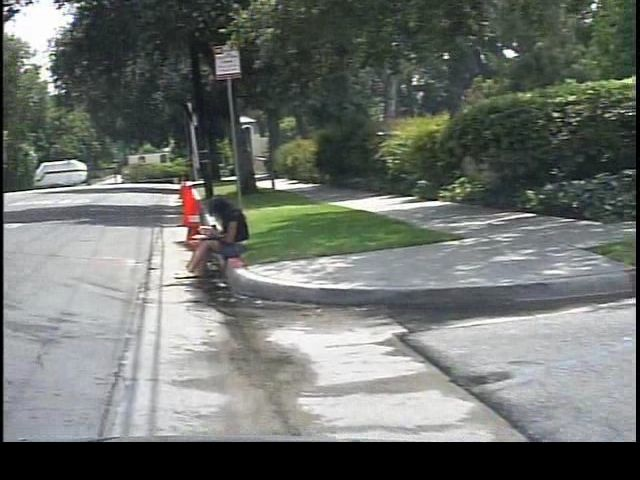person: (162, 190, 247, 281)
